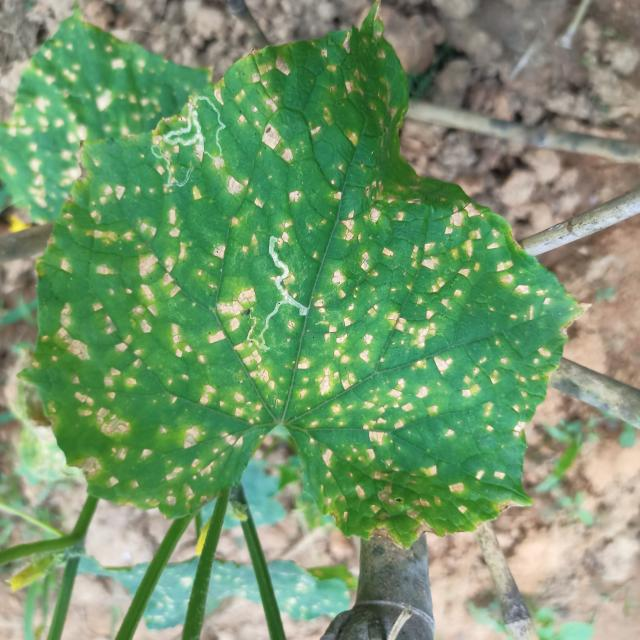disease_cucumber: (40, 61, 527, 518)
